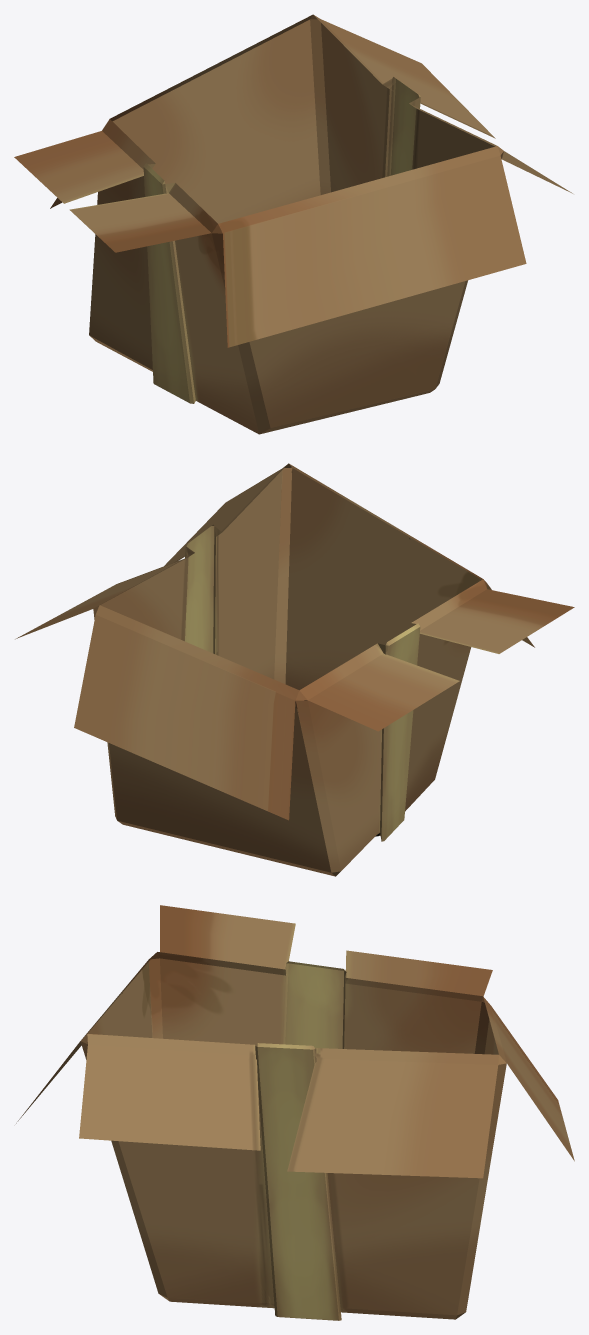
File: Box_OPEN.fbx
The picture shows the model from 3 angles, top to bottom: view 1: azimuth 30°, elevation 25°; view 2: azimuth 150°, elevation 25°; view 3: azimuth 270°, elevation 25°; orthographic projection. The views are drawn at different scales.
Visible parts, largest first — view 1: Cube; view 2: Cube; view 3: Cube.
Part boxes in pixels (left/top/right/bottom): Cube: left=14, top=14, right=572, bottom=434; Cube: left=15, top=463, right=574, bottom=876; Cube: left=16, top=905, right=574, bottom=1320.
Size of the model in its own units: 368 by 207 by 369.
1 material, 1 textured.
